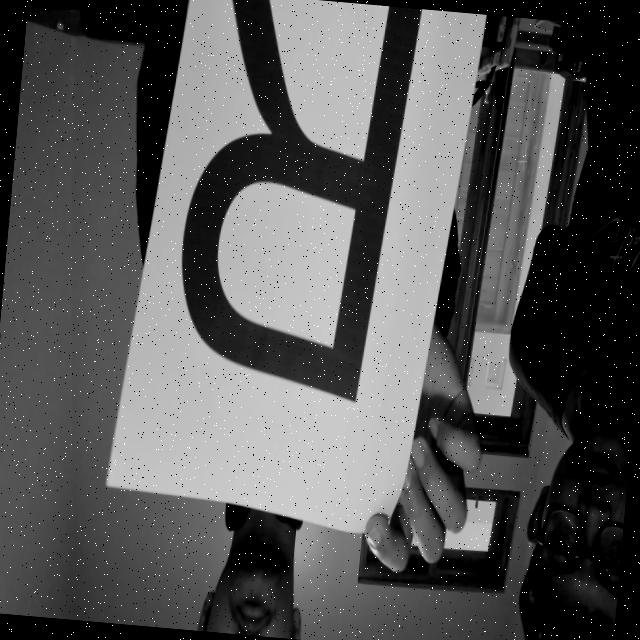r: (161, 0, 422, 424)
